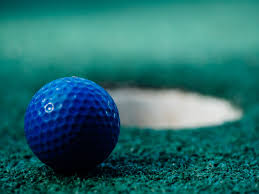blue ball: (24, 75, 122, 174)
